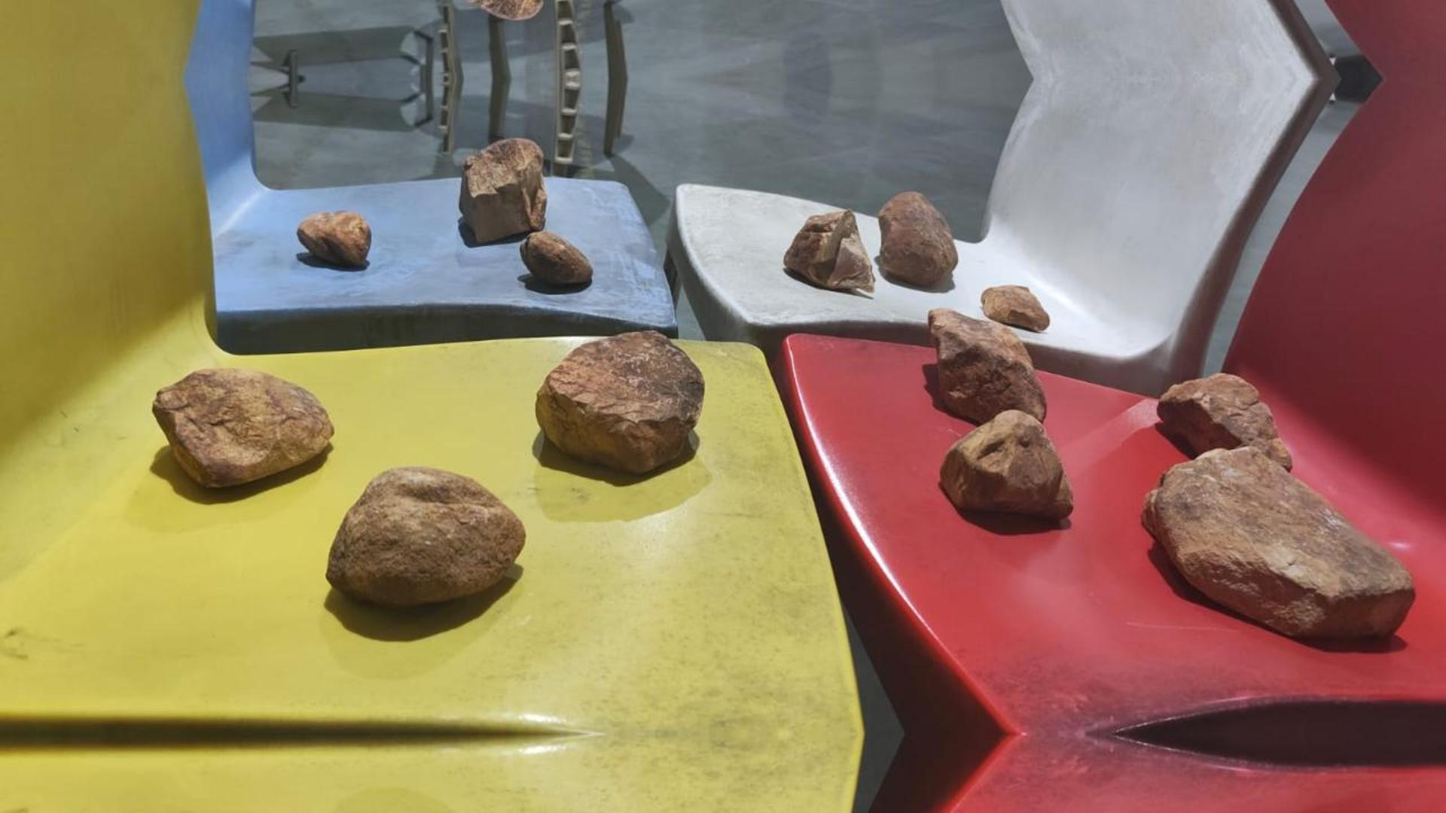rock: (1142, 445, 1414, 637), (326, 465, 524, 605), (535, 331, 704, 472), (153, 368, 333, 487), (940, 410, 1072, 519), (927, 308, 1046, 425), (1157, 373, 1291, 471), (459, 138, 546, 244), (784, 210, 873, 296), (878, 192, 957, 288), (296, 211, 371, 268), (520, 229, 592, 287), (981, 285, 1049, 331), (467, 0, 542, 20)
